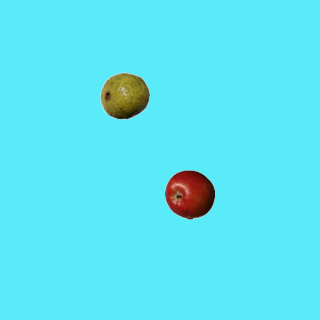Apple Braeburn: (164, 169, 214, 219)
Guava: (99, 70, 149, 120)
